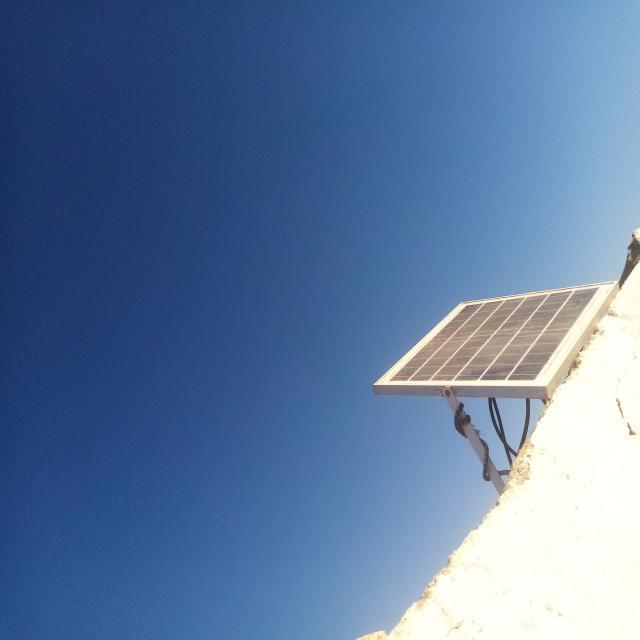faulty: (373, 280, 618, 387)
